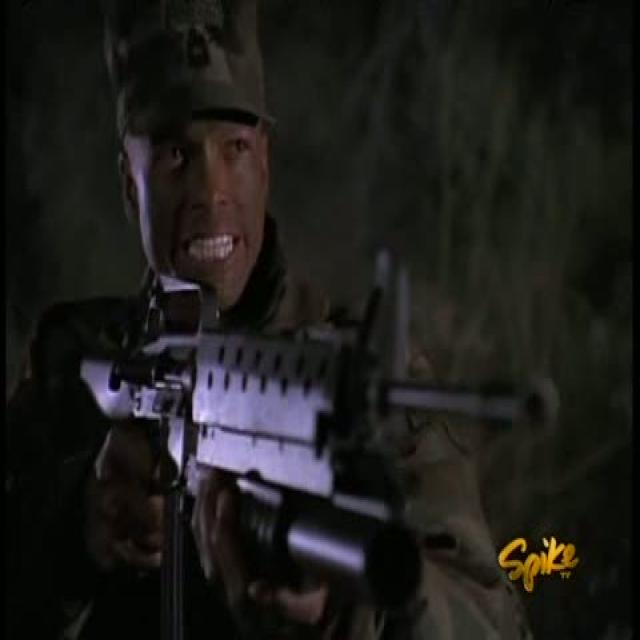rifle: (63, 263, 552, 640)
